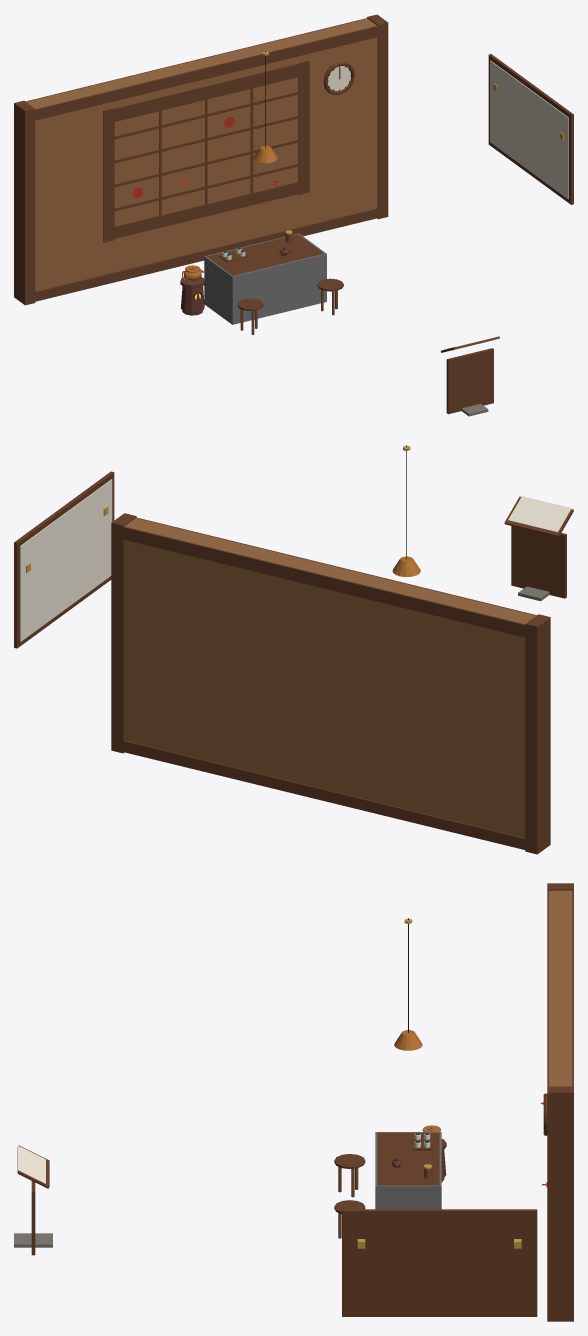
Rendered from S3_tea.glb.
The picture shows the model from 3 angles, top to bottom: view 1: azimuth 30°, elevation 25°; view 2: azimuth 150°, elevation 25°; view 3: azimuth 270°, elevation 25°; orthographic projection. The views are drawn at different scales.
Visible parts, largest first — view 1: tea_backwall, SIGN_gantt, COL_tea_table, label_stand_SIGN_label_tea, tea_table, gantt_board, wall_clock, INT_stove, stool_tea_1; view 2: tea_backwall, SIGN_gantt, label_stand_SIGN_label_tea, gantt_board, SIGN_label_tea, pendant_lamp; view 3: gantt_board, tea_backwall, tea_table, COL_tea_table, label_stand_SIGN_label_tea, SIGN_label_tea, stool_tea_1, pendant_lamp.
Part boxes in pixels (box(x1,y1,x2,y2)): tea_backwall: box(14, 14, 388, 305); SIGN_gantt: box(490, 60, 568, 199); COL_tea_table: box(204, 233, 326, 324); label_stand_SIGN_label_tea: box(441, 336, 499, 416); tea_table: box(207, 234, 324, 275); gantt_board: box(488, 54, 573, 204); wall_clock: box(323, 61, 354, 94); INT_stove: box(180, 276, 204, 315); stool_tea_1: box(237, 298, 263, 334); tea_backwall: box(111, 513, 550, 854); SIGN_gantt: box(20, 479, 112, 641); label_stand_SIGN_label_tea: box(504, 496, 573, 601); gantt_board: box(14, 471, 114, 648); SIGN_label_tea: box(508, 496, 571, 532); pendant_lamp: box(392, 445, 420, 576); gantt_board: box(342, 1209, 537, 1316); tea_backwall: box(547, 883, 573, 1321); tea_table: box(377, 1132, 439, 1185); COL_tea_table: box(375, 1132, 441, 1209); label_stand_SIGN_label_tea: box(14, 1145, 52, 1255); SIGN_label_tea: box(18, 1146, 45, 1183); stool_tea_1: box(334, 1154, 365, 1197); pendant_lamp: box(394, 918, 422, 1050).
Bounding box in the file's own units: 8.14 × 4.22 × 7.17.
